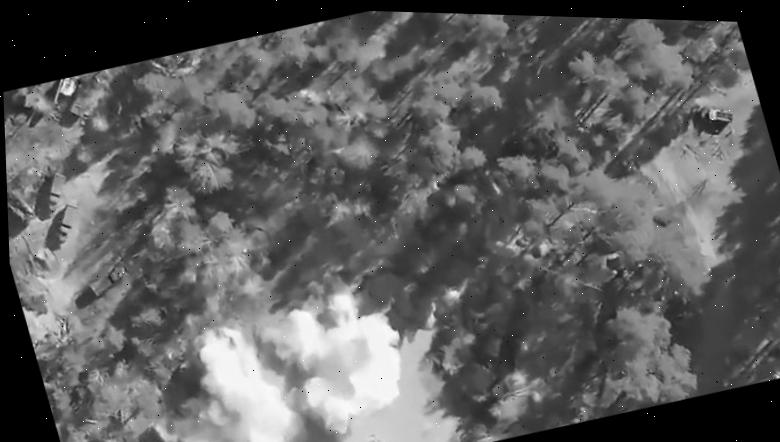truck: (46, 199, 86, 243), (37, 169, 72, 211)
